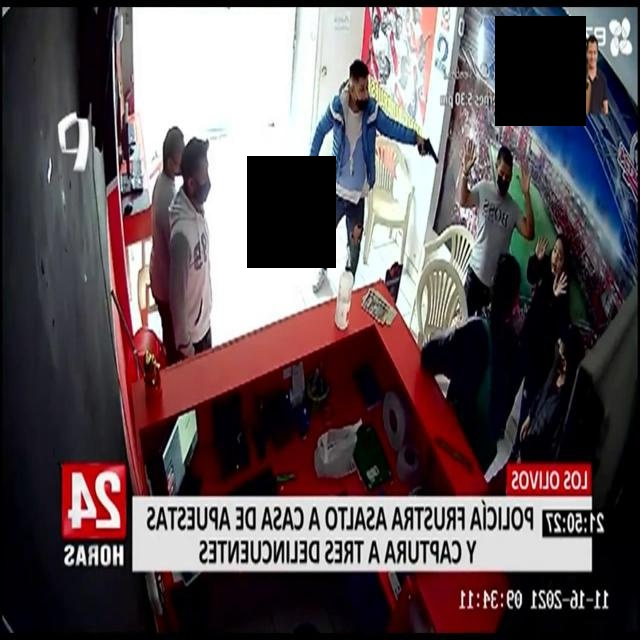gun: (413, 121, 442, 171)
